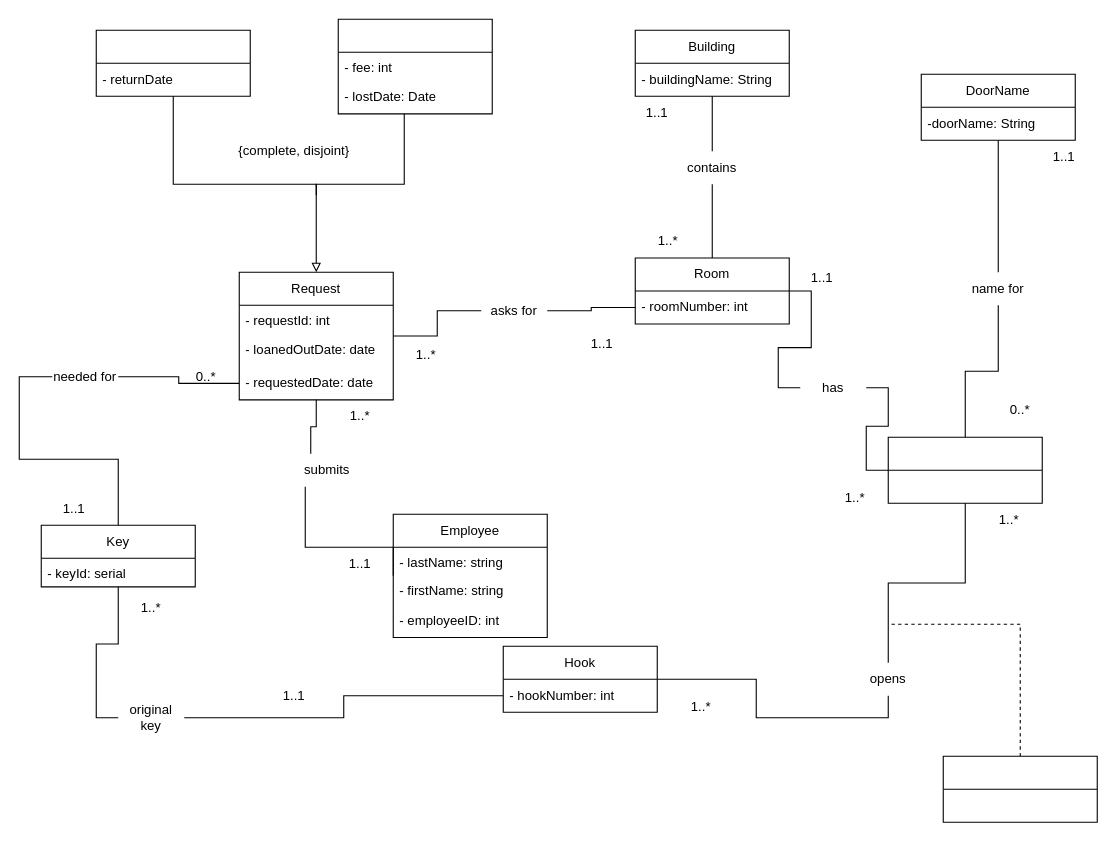
This 1117x842 diagram has some shape labels left out. The box of each missing label's shape, as (x1, y1, x2, y2) in pixels:
Access: (942, 755, 1097, 822)
Door: (887, 436, 1042, 503)
LostKey: (337, 18, 492, 114)
ReturnKey: (95, 29, 250, 96)
